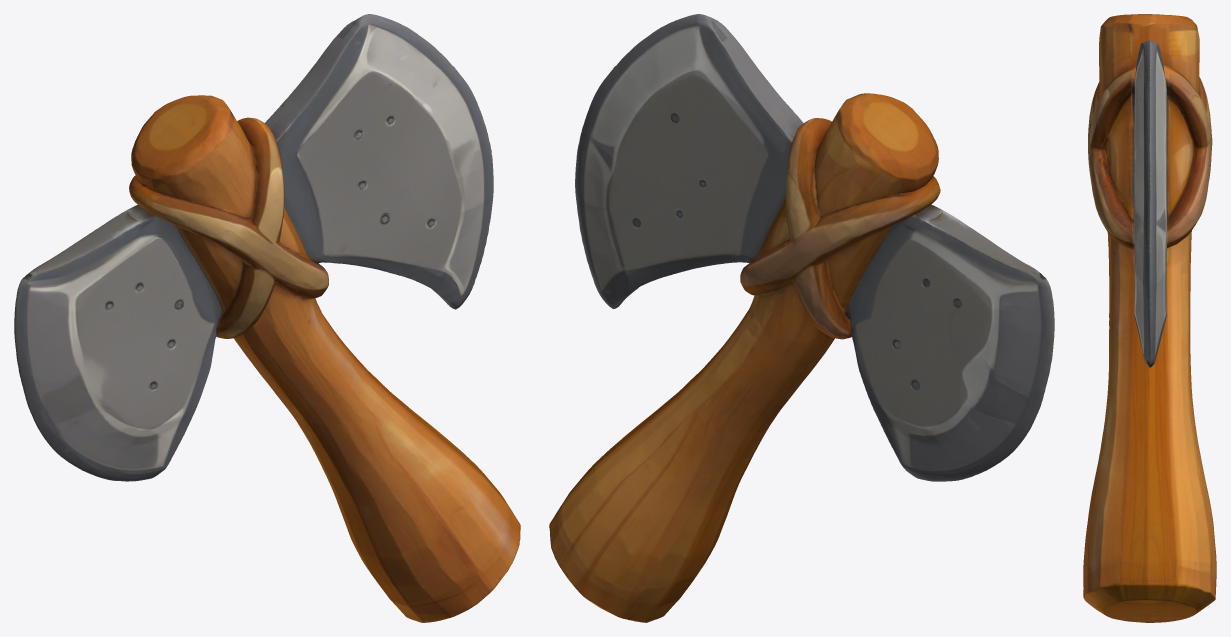
File: axe.glb
3 renders of one model, left to right at view 1: azimuth 30°, elevation 25°; view 2: azimuth 150°, elevation 25°; view 3: azimuth 270°, elevation 25°, orthographic. The views are drawn at different scales.
Size of the model in its own units: 1.69 by 2 by 0.4354.
1 material, 1 textured.
